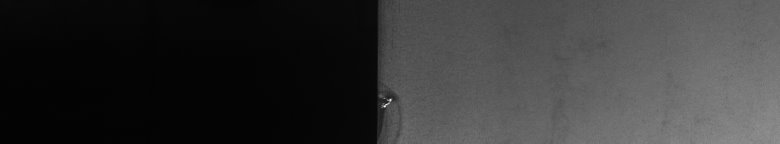hb: (388, 83, 408, 136)
